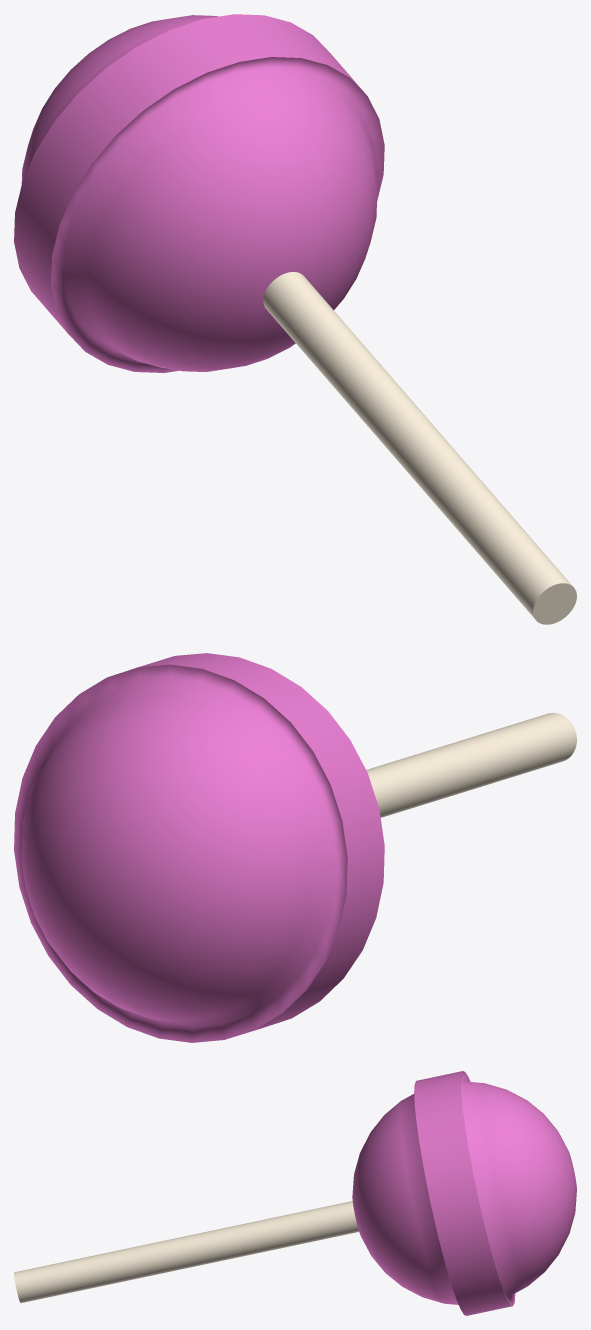
The model's file is candy.fbx.
3 views of the same model, one above another, from view 1: azimuth 30°, elevation 25°; view 2: azimuth 150°, elevation 25°; view 3: azimuth 270°, elevation 25° (orthographic). The views are drawn at different scales.
Parts seen in each view (by area): view 1: Cylinder.001; view 2: Cylinder.001; view 3: Cylinder.001.
Part boxes in pixels (x1,y1,x2,y2): Cylinder.001: (14, 14, 576, 624); Cylinder.001: (14, 653, 576, 1042); Cylinder.001: (14, 1071, 576, 1315).
Size of the model in its own units: 214 by 218 by 501.
